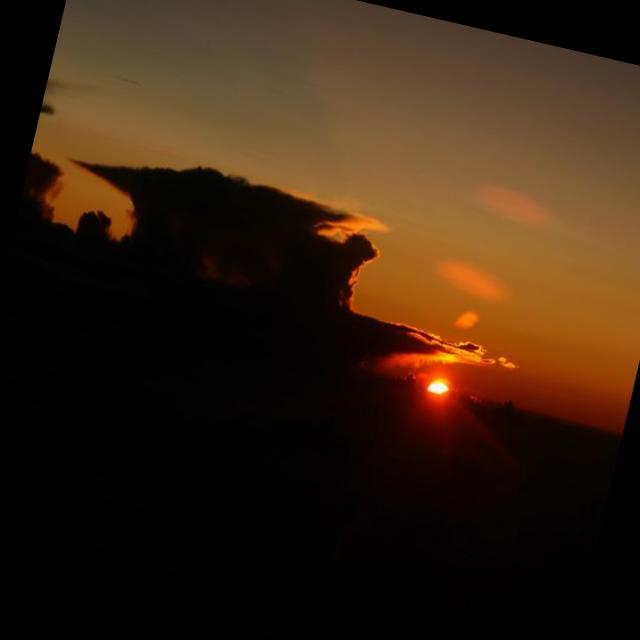cumulonimbus: (0, 100, 557, 535)
